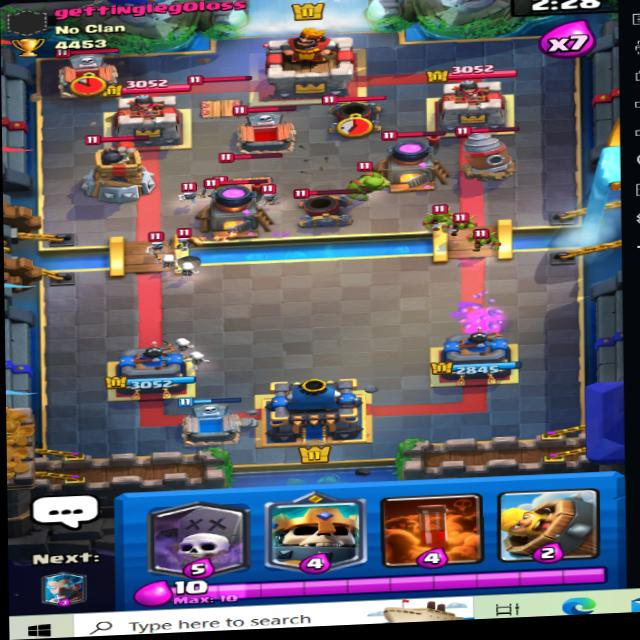bomb-tower: (76, 129, 158, 200)
brawler: (340, 159, 404, 203)
furnace: (379, 125, 450, 194), (201, 173, 275, 236)
goblin: (440, 206, 477, 234), (469, 226, 505, 254), (421, 208, 456, 227)
goblin-drill: (454, 122, 520, 182)
mortar: (290, 185, 359, 231), (314, 92, 385, 135)
skeleton: (168, 219, 203, 245), (195, 172, 223, 194), (177, 181, 200, 205), (138, 235, 166, 253)
tesla-closed: (209, 144, 282, 200), (182, 71, 260, 118)
tombstone: (49, 44, 125, 99), (227, 100, 302, 151)
